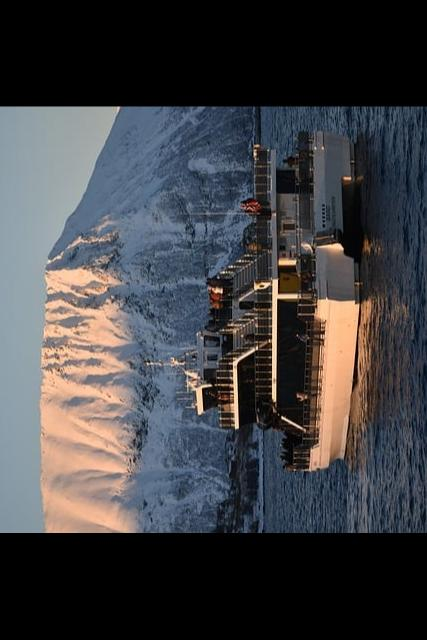Non_Gorille: (19, 114, 427, 533)
